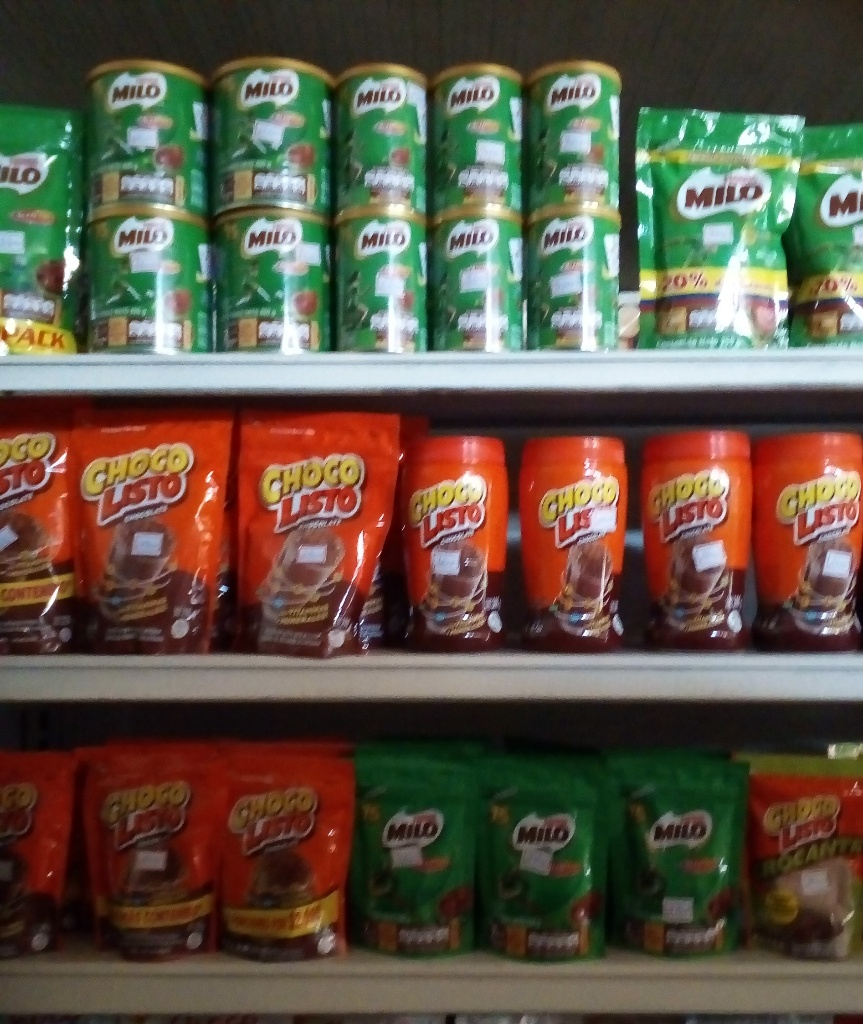COL0170102DYP10000: (743, 750, 863, 965)
COL0170103DYP20000: (233, 411, 404, 654)
COL0170103TRR30000: (755, 432, 857, 650)
COL0170203DYP10000: (612, 762, 747, 954)
COL0170203DYP25000: (793, 115, 860, 347)
COL0170203LAT20000: (517, 202, 624, 351)
COL0170203LAT40000: (216, 208, 336, 352)
